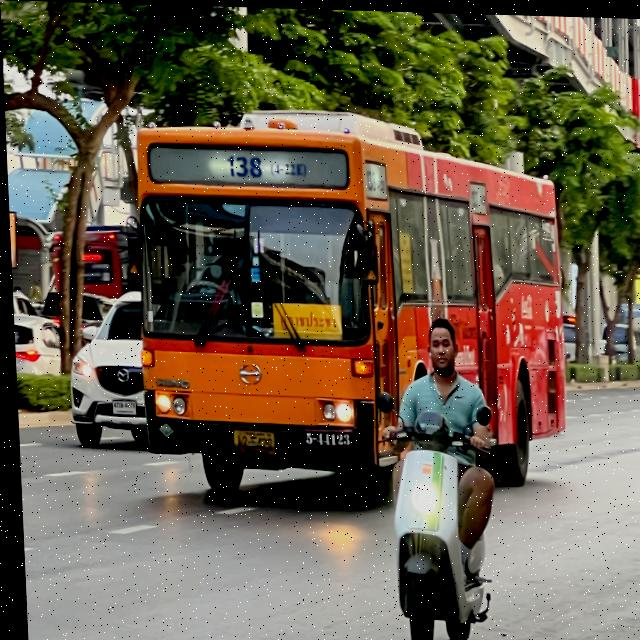BMTA-bus: (114, 94, 571, 517)
Bus Line Number: (219, 149, 313, 182)
Bus Side Number: (298, 426, 351, 447)
Destination Sign: (270, 301, 340, 338)
